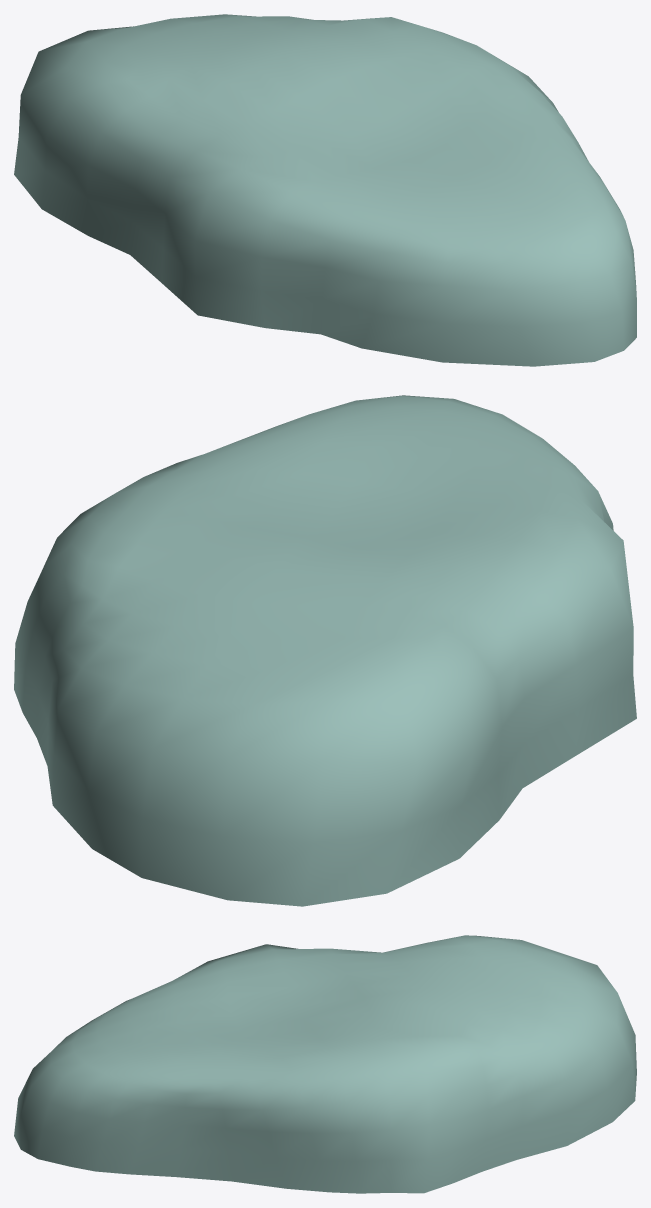
Rendered from SM_Island_001.fbx.
3 views of the same model, one above another, from view 1: azimuth 30°, elevation 25°; view 2: azimuth 150°, elevation 25°; view 3: azimuth 270°, elevation 25° (orthographic). The views are drawn at different scales.
Parts seen in each view (by area): view 1: SM_Island; view 2: SM_Island; view 3: SM_Island.
Boxes of the visible parts, bbox=[...] form: SM_Island: bbox=[14, 14, 636, 366]; SM_Island: bbox=[14, 395, 636, 906]; SM_Island: bbox=[14, 935, 636, 1193].
Bounding box in the file's own units: 8674 × 2990 × 13898.
